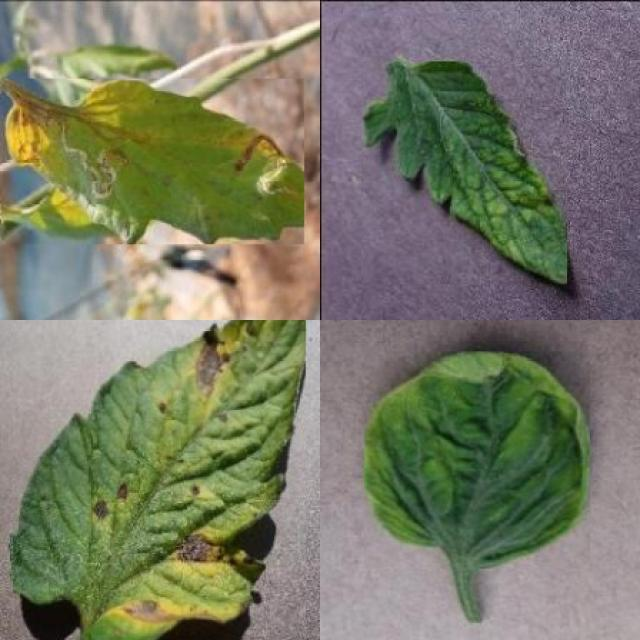Early Blight: (13, 320, 306, 640)
Leaf Miner: (2, 79, 304, 244)
Mosaic Virus: (362, 62, 568, 284)
Yellow Leaf Curl Virus: (365, 352, 591, 568)
